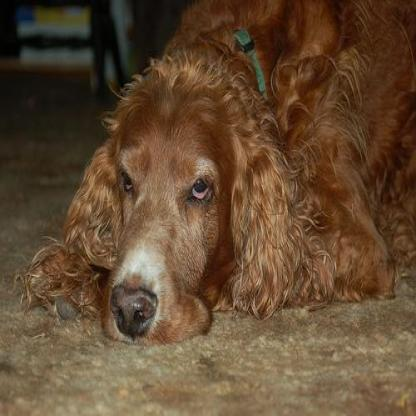Irish_setter: (12, 0, 414, 345)
